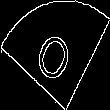O_SW: (31, 20, 79, 90)
